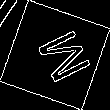M_SW: (22, 23, 88, 87)
